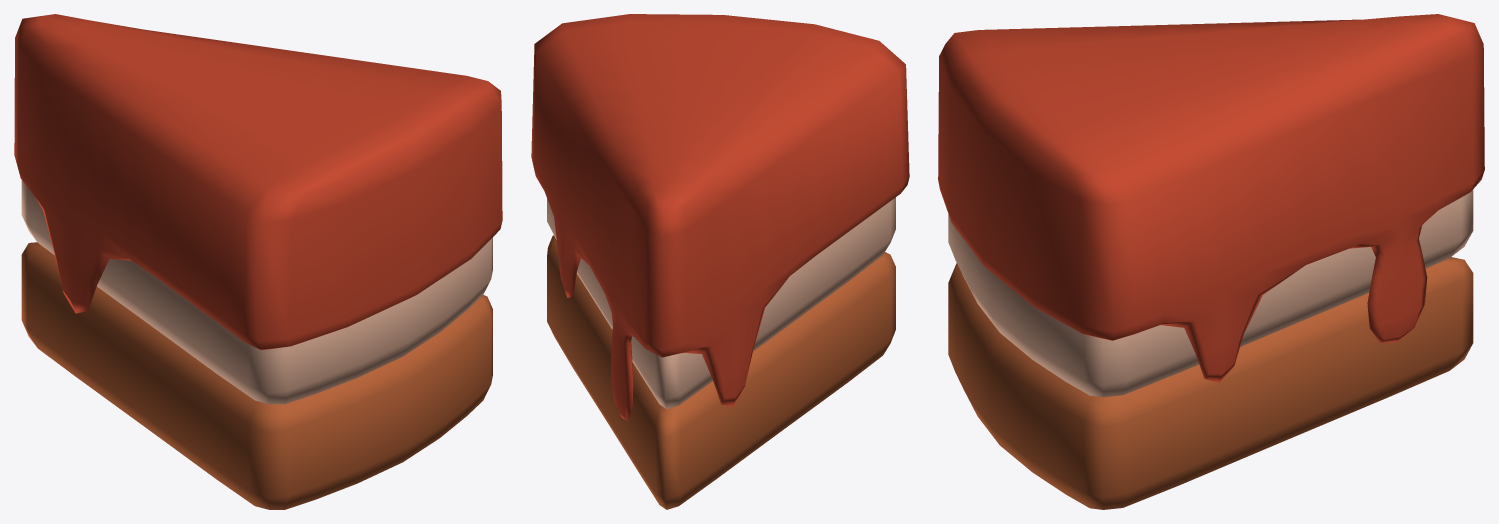
The model's file is SM_cake_slice.fbx.
The picture shows the model from 3 angles, left to right: view 1: azimuth 30°, elevation 25°; view 2: azimuth 150°, elevation 25°; view 3: azimuth 270°, elevation 25°; orthographic projection. The views are drawn at different scales.
Visible parts, largest first — view 1: SM_cake_slice; view 2: SM_cake_slice; view 3: SM_cake_slice.
Boxes of the visible parts, x1=… form: SM_cake_slice: x1=14, y1=14, x2=502, y2=509; SM_cake_slice: x1=531, y1=14, x2=909, y2=509; SM_cake_slice: x1=938, y1=14, x2=1484, y2=509.
Bounding box in the file's own units: 11.68 × 11.66 × 16.04.
Materials: 1 (1 with a texture image).
